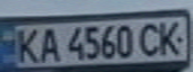0: (115, 21, 139, 59)
4: (63, 24, 84, 61)
5: (81, 24, 103, 61)
6: (100, 22, 121, 60)
A: (33, 25, 63, 63)
C: (136, 20, 166, 56)
K: (9, 25, 45, 64), (154, 18, 187, 56)
